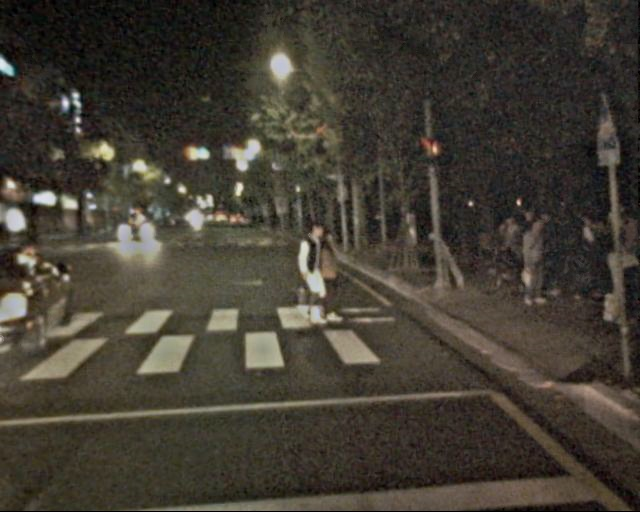person: (506, 209, 561, 295), (286, 222, 329, 328), (596, 231, 637, 330), (305, 226, 345, 323), (562, 210, 601, 305), (519, 216, 556, 307)
